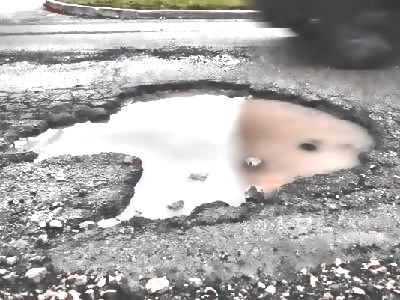pothole: (6, 75, 382, 231)
